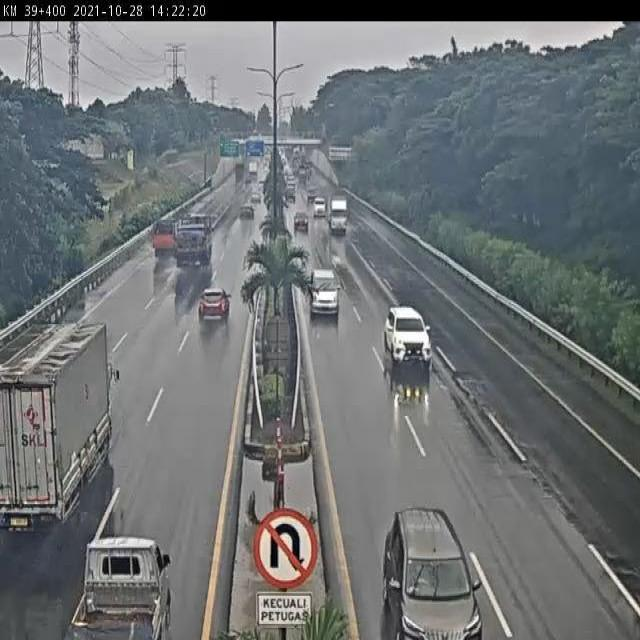car: (382, 304, 432, 369), (197, 284, 232, 327), (309, 269, 341, 316), (293, 210, 312, 234), (236, 203, 257, 224), (311, 195, 327, 221)
small truck: (151, 212, 179, 256)
truck-l-: (0, 312, 112, 525), (177, 212, 214, 271)
truck-s-: (330, 197, 350, 235)
